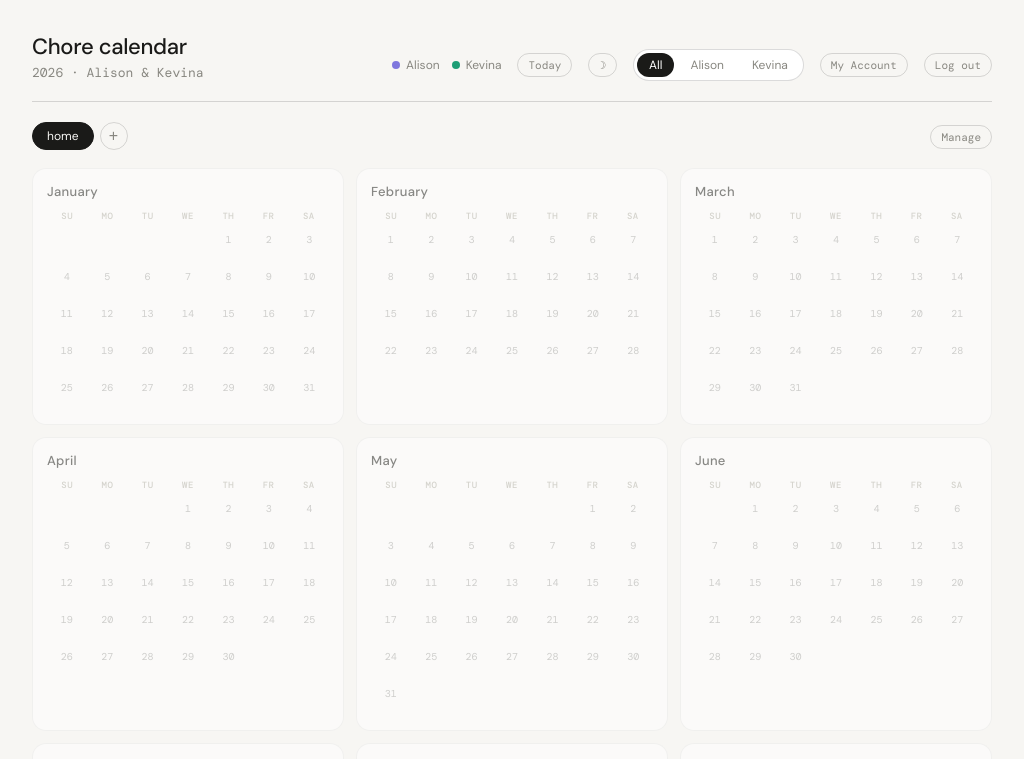
Test case: App › Alison filter hides Kevina chores in detail panel
Check: the text "January" is shown, box [47,183,98,200]
Click the button "Alison": {"x": 707, "y": 65} [678,53,736,77]
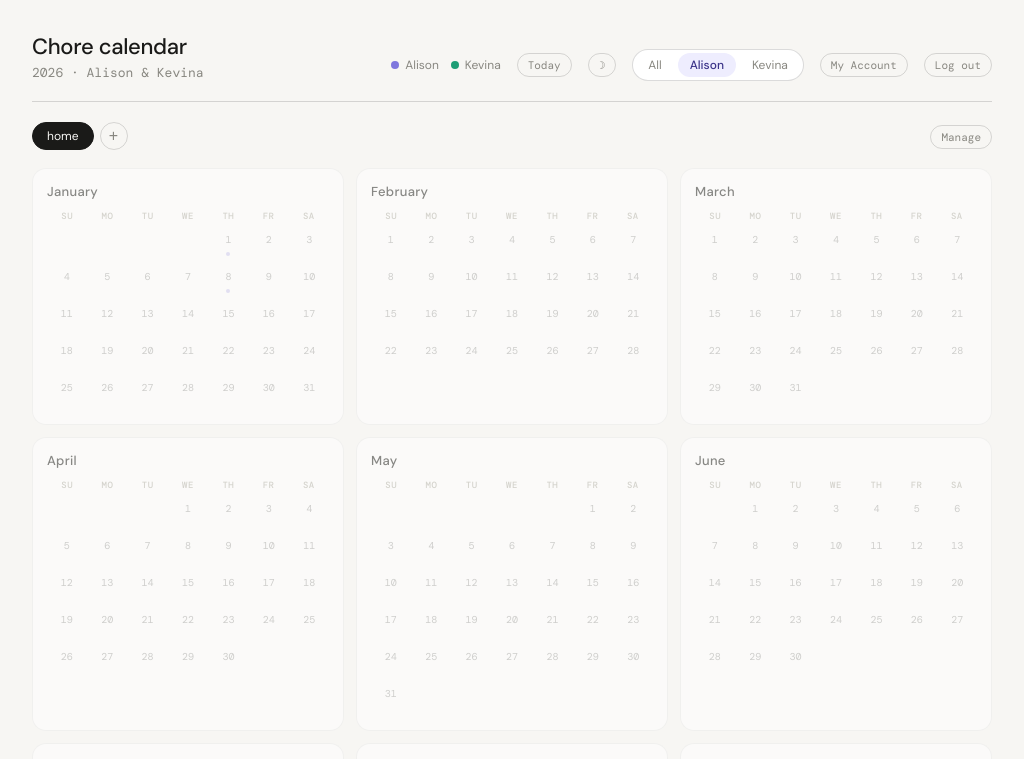
Click the button "1" below "January": {"x": 228, "y": 244} [225,233,231,256]
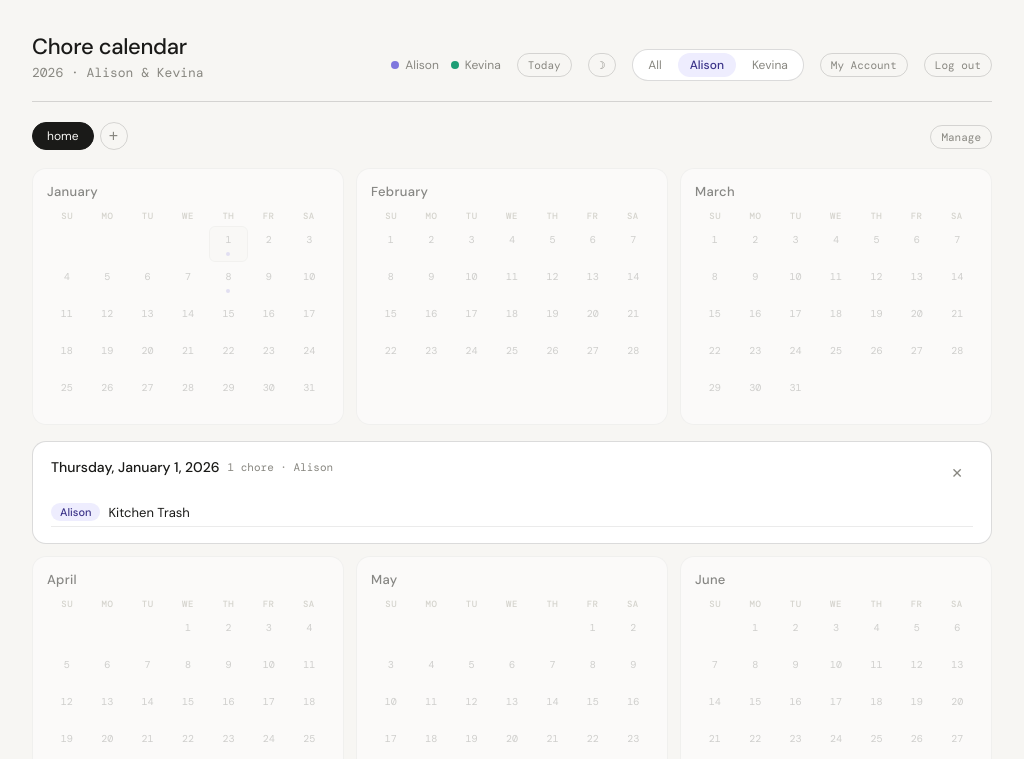
Check: the text "Kitchen Trash" is shown, box [108,504,190,520]
